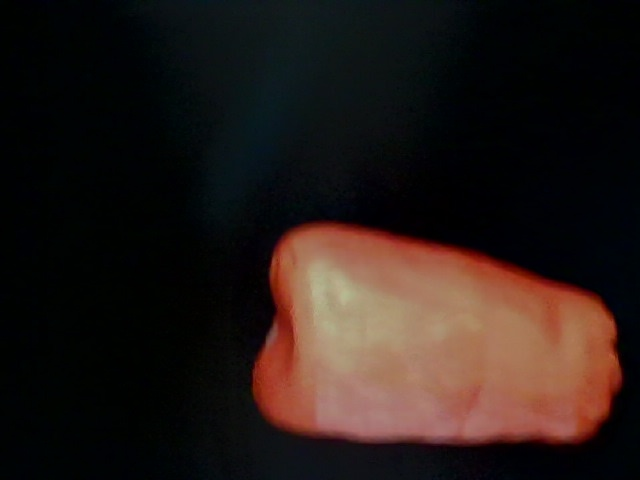QTLJ: (133, 257, 420, 480)
